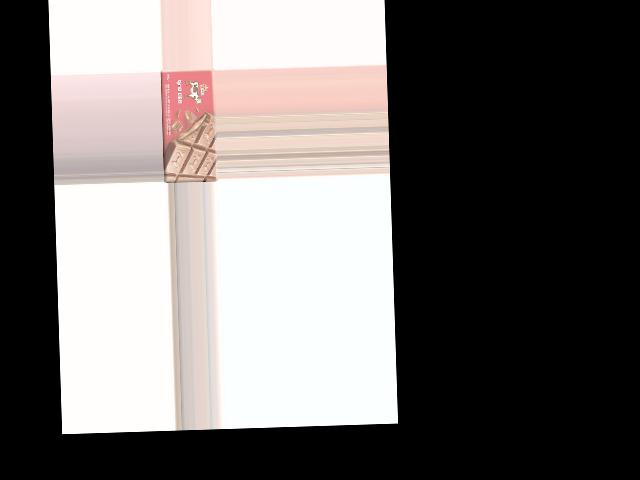chocolate: (161, 68, 217, 181)
